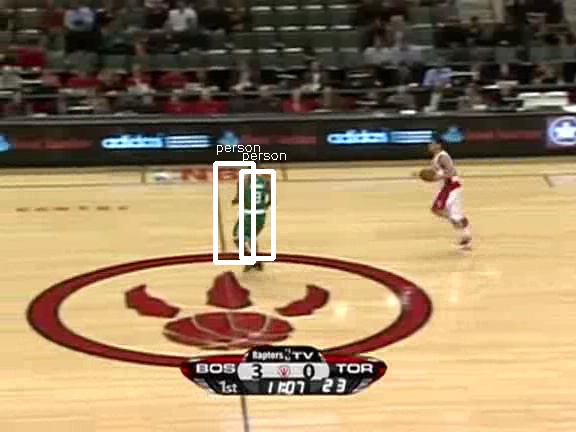person: (239, 169, 273, 250), (238, 169, 272, 250), (240, 169, 274, 250), (239, 168, 273, 249), (239, 170, 273, 251)
target_negative: (6, 86, 575, 330), (555, 125, 564, 427), (311, 267, 451, 284), (480, 263, 514, 325), (263, 292, 303, 337), (552, 422, 558, 431)
